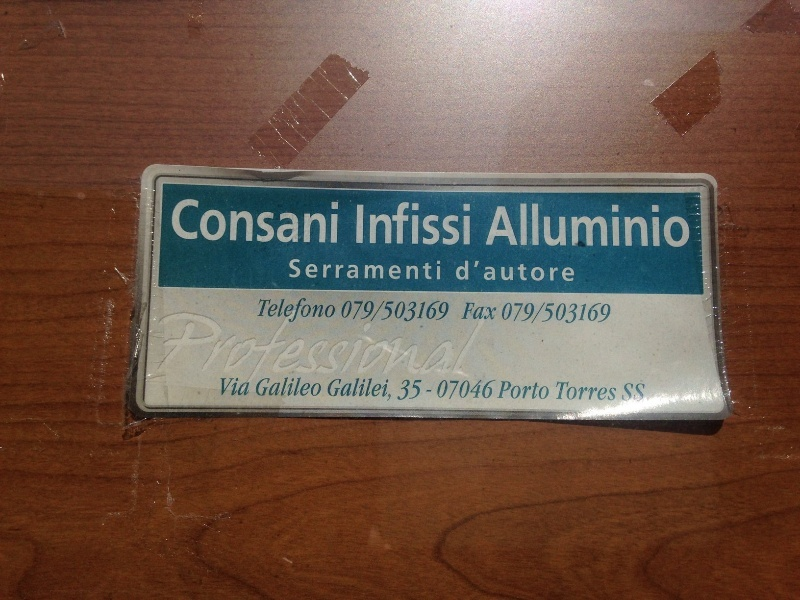text: (161, 316, 176, 382), (177, 316, 192, 382), (193, 316, 208, 382), (209, 316, 224, 382), (225, 316, 240, 382), (241, 316, 256, 382), (257, 316, 272, 382), (273, 316, 288, 382), (289, 316, 304, 382), (305, 316, 320, 382), (321, 316, 336, 382), (337, 316, 352, 382), (353, 316, 368, 382), (369, 316, 384, 382), (385, 316, 400, 382), (401, 316, 416, 382), (417, 316, 432, 382), (433, 316, 448, 382), (449, 316, 464, 382), (465, 316, 480, 382), (177, 197, 192, 245), (193, 197, 208, 245), (209, 197, 224, 245), (225, 197, 240, 245), (241, 197, 256, 245), (257, 197, 272, 245), (273, 197, 288, 245), (289, 197, 304, 245), (305, 197, 320, 245), (321, 197, 336, 245), (673, 202, 689, 247), (497, 202, 512, 247), (513, 202, 528, 247), (529, 202, 544, 247), (545, 202, 560, 247), (561, 202, 576, 247), (577, 202, 592, 247), (593, 202, 608, 247), (609, 202, 624, 247), (625, 202, 640, 247), (641, 202, 656, 247), (657, 202, 672, 247), (369, 201, 384, 245), (385, 201, 400, 245), (401, 201, 416, 245), (417, 201, 432, 245), (433, 201, 448, 245), (449, 201, 464, 245), (481, 316, 488, 382), (358, 201, 368, 245), (337, 376, 352, 405), (353, 376, 368, 405), (369, 376, 384, 405), (273, 298, 288, 326), (289, 298, 304, 326), (305, 298, 320, 326), (321, 298, 336, 326), (154, 316, 160, 382), (225, 376, 240, 399), (257, 378, 272, 401), (273, 378, 288, 401), (289, 378, 304, 401), (305, 378, 320, 401), (417, 378, 432, 401), (433, 378, 448, 401), (449, 378, 464, 401), (465, 378, 480, 401), (481, 378, 496, 401), (260, 298, 272, 326), (513, 380, 528, 402), (529, 380, 544, 402), (305, 259, 320, 280), (321, 259, 336, 280), (337, 259, 352, 280), (353, 259, 368, 280), (369, 259, 384, 280), (385, 259, 400, 280), (401, 259, 416, 280), (417, 259, 432, 280), (481, 302, 497, 321), (625, 382, 640, 402), (513, 302, 528, 322), (529, 302, 544, 322), (545, 302, 560, 322), (561, 302, 576, 322), (577, 302, 592, 322), (593, 302, 608, 322), (353, 301, 368, 321), (369, 301, 384, 321), (385, 301, 400, 321), (401, 301, 416, 321), (417, 301, 432, 321), (433, 301, 448, 321), (290, 259, 304, 280), (561, 382, 576, 401), (577, 382, 592, 401), (593, 382, 608, 401), (404, 378, 416, 401), (497, 264, 512, 282), (513, 264, 528, 282), (529, 264, 544, 282), (545, 264, 560, 282), (466, 302, 480, 321), (385, 376, 394, 405), (561, 264, 575, 282), (501, 380, 512, 402), (465, 201, 470, 245), (484, 264, 496, 282), (241, 376, 249, 399), (433, 259, 441, 280), (456, 260, 464, 281), (337, 197, 340, 245), (505, 302, 512, 322), (346, 301, 352, 321), (332, 376, 336, 405), (609, 382, 615, 401), (545, 380, 550, 402), (465, 260, 470, 281), (641, 382, 646, 402), (321, 378, 324, 401), (609, 302, 612, 322), (557, 382, 560, 401), (175, 197, 176, 245), (222, 376, 224, 399), (449, 301, 451, 321), (337, 298, 338, 326)
